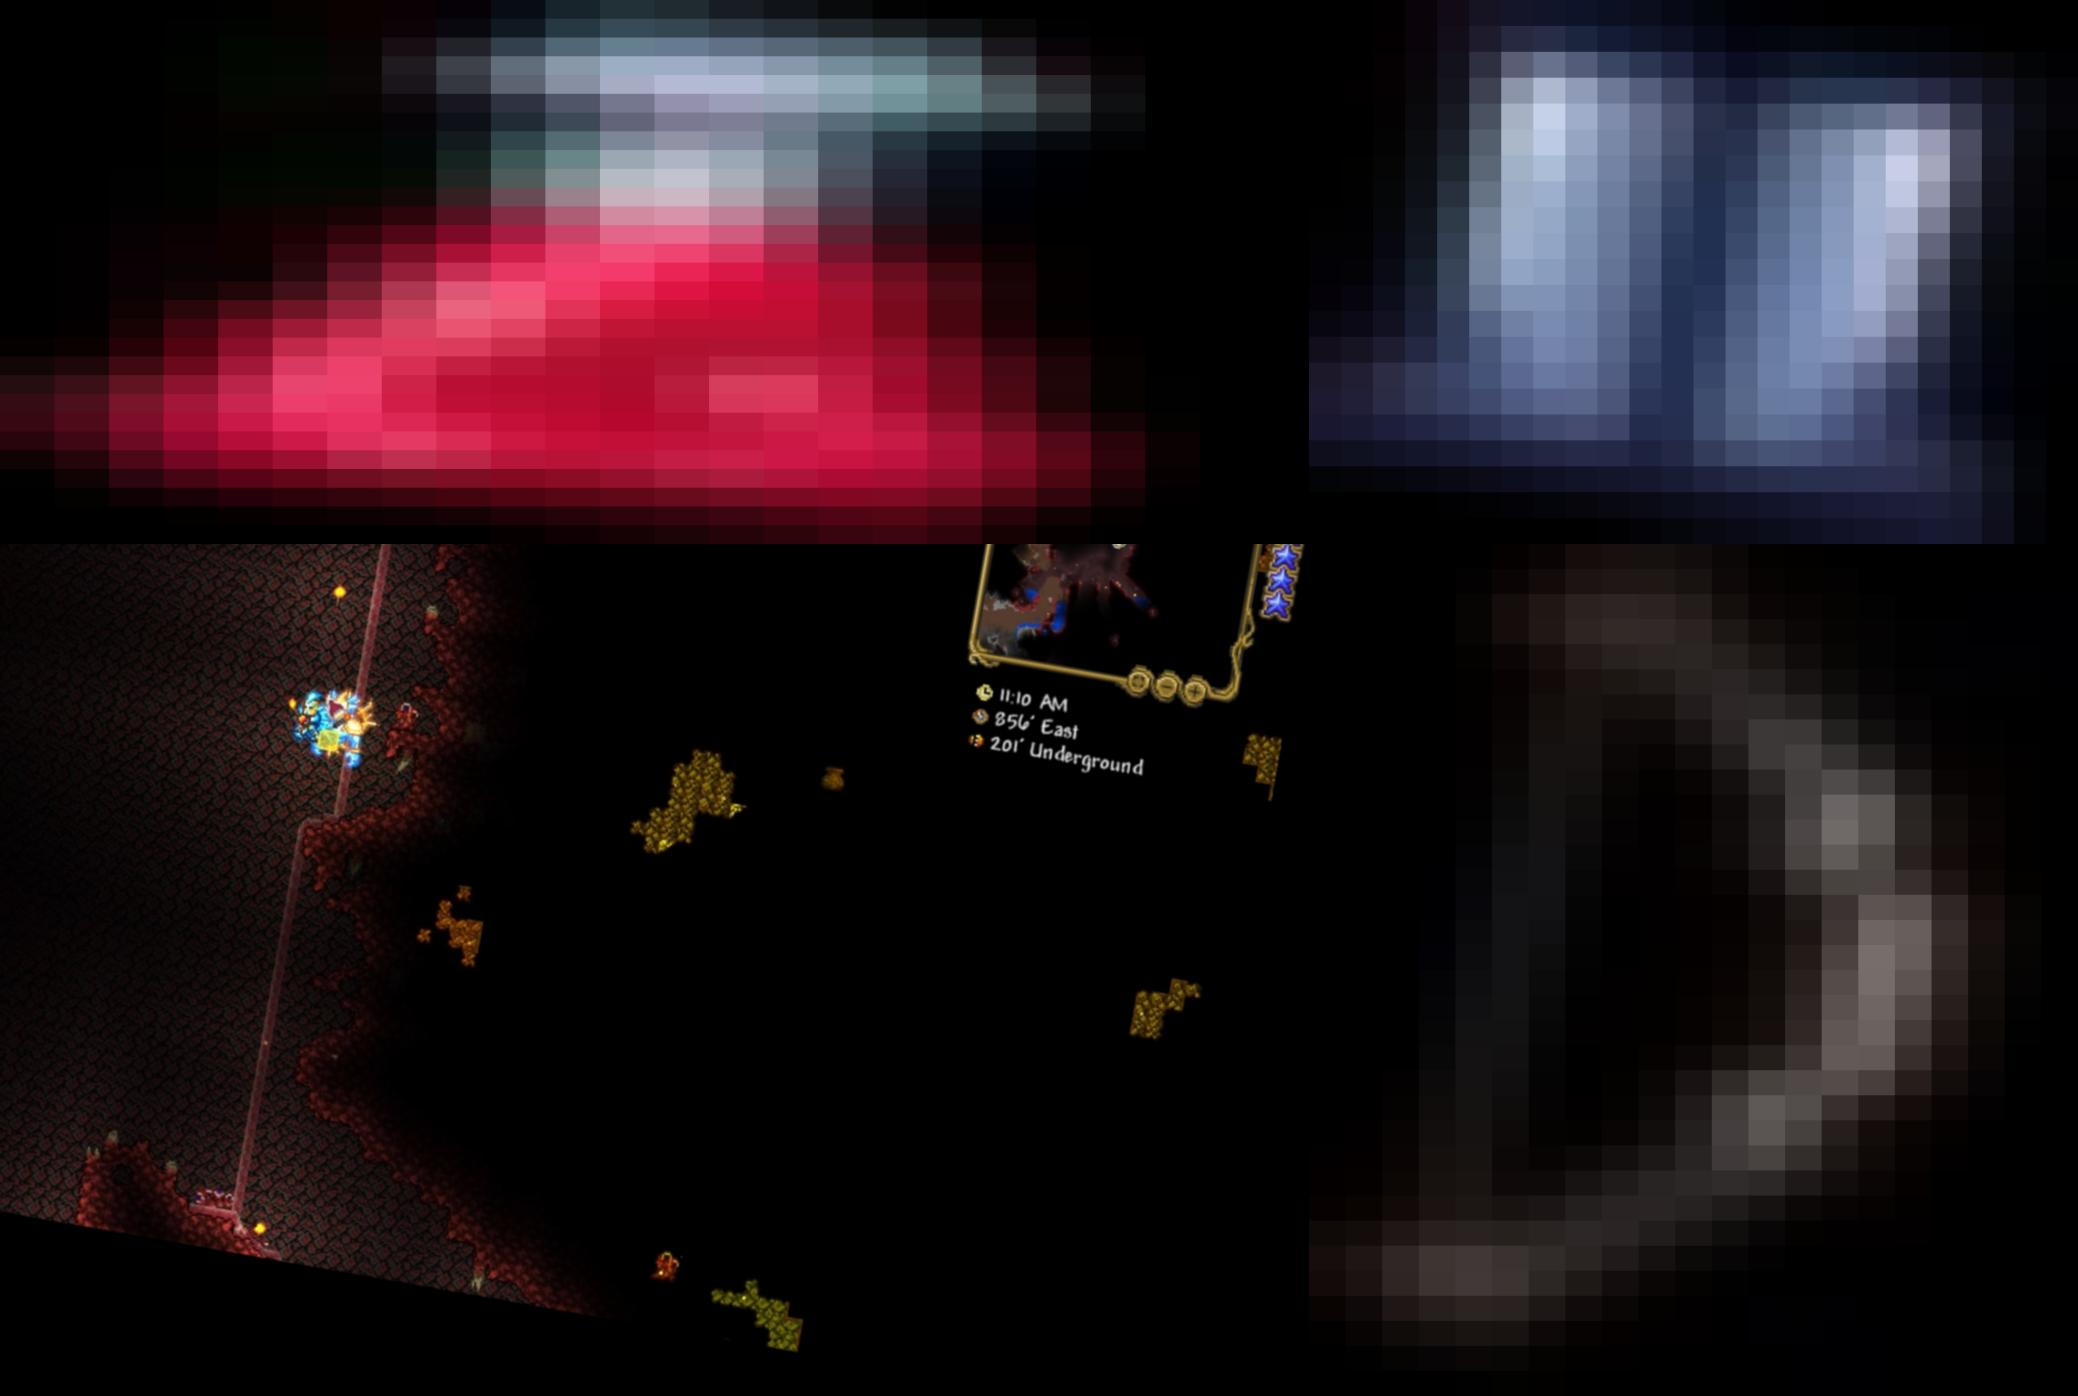altar: (192, 1179, 243, 1221)
bow: (1308, 544, 2078, 1396)
legs: (1308, 0, 2078, 544)
potion: (0, 0, 1308, 544)
